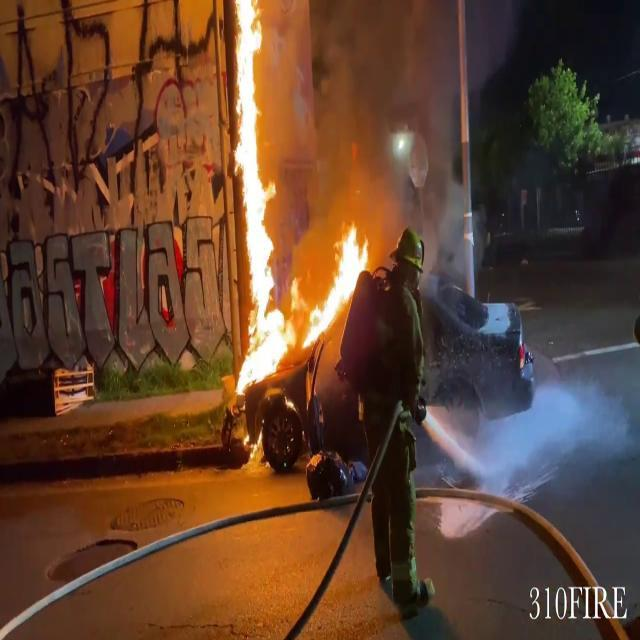Fire: (229, 0, 299, 370), (304, 218, 374, 344)
Smoke: (271, 0, 512, 253)
